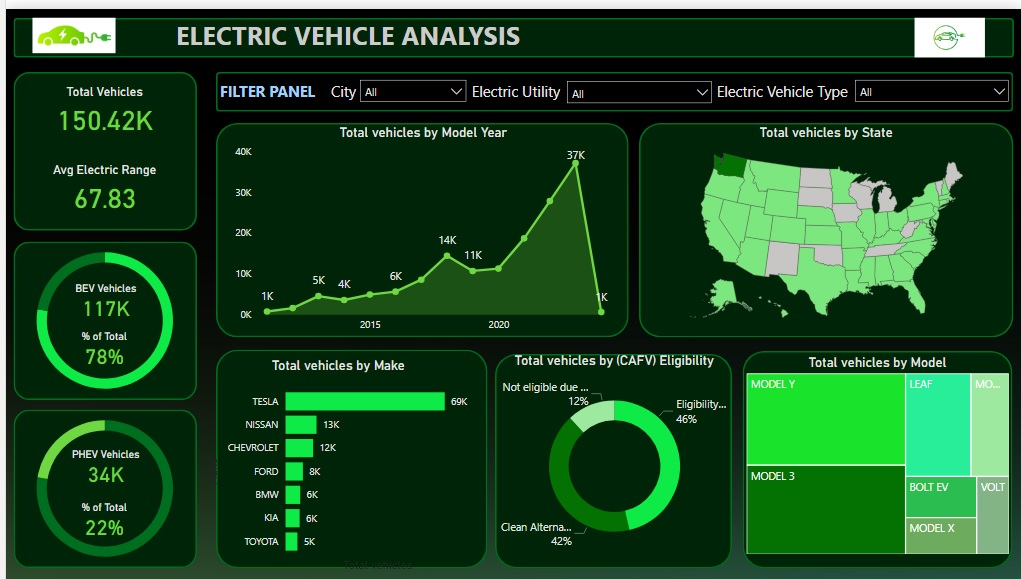

What the dashboard file says about the page in this screenshot:
{"tool":"powerbi","page":{"name":"Page 1","canvas":[1280,720],"ordinal":0},"visuals":[{"type":"shape","box":[9.4,10.9,1260.4,50],"z":0},{"type":"textbox","box":[164.4,5.7,532.9,60.5],"z":1000},{"type":"shape","box":[9.4,79.7,231.1,199.9],"z":2000},{"type":"card","title":"Total Vehicles","fields":{"Values":["Electric_Vehicle_Population_Data.Total vehicles"]},"box":[23.4,95.3,203,68.7],"z":3000},{"type":"card","title":"Avg Electric Range","fields":{"Values":["Avg(Electric_Vehicle_Population_Data.Electric Range)"]},"box":[23.4,193.7,203,68.7],"z":4000},{"type":"shape","box":[9.4,292.1,231.1,199.9],"z":5000},{"type":"shape","box":[9.4,504.5,231.1,199.9],"z":6000},{"type":"donutChart","fields":{"Category":["Electric_Vehicle_Population_Data.Electric Vehicle Type"],"Y":["Electric_Vehicle_Population_Data.Total vehicles"]},"box":[0,279.6,248.3,224.9],"z":7000},{"type":"card","title":"BEV Vehicles","fields":{"Values":["Electric_Vehicle_Population_Data.BEV Vehicles"]},"box":[62.5,343.6,126.5,48.4],"z":8000},{"type":"card","title":"% of Total","fields":{"Values":["Electric_Vehicle_Population_Data.% of BEV"]},"box":[60.9,404.5,126.5,48.4],"z":9000},{"type":"donutChart","fields":{"Category":["Electric_Vehicle_Population_Data.Electric Vehicle Type"],"Y":["Electric_Vehicle_Population_Data.Total vehicles"]},"box":[0,492,248.3,224.9],"z":10000},{"type":"card","title":"PHEV Vehicles","fields":{"Values":["Electric_Vehicle_Population_Data.HB Vehicles"]},"box":[62.5,552.9,126.5,48.4],"z":11000},{"type":"card","title":"% of Total","fields":{"Values":["Electric_Vehicle_Population_Data.% of PHEV"]},"box":[60.9,620,126.5,48.4],"z":12000},{"type":"shape","box":[265.5,79.7,1004.3,50],"z":13000},{"type":"shape","box":[265.5,143.7,520,270],"z":14000},{"type":"areaChart","fields":{"Category":["Electric_Vehicle_Population_Data.Model Year"],"Y":["Electric_Vehicle_Population_Data.Total vehicles"]},"box":[282.7,145.2,484.2,270.2],"z":15000},{"type":"shape","box":[798.1,143.7,471.7,270.2],"z":16000},{"type":"shapeMap","fields":{"Category":["Electric_Vehicle_Population_Data.State"],"Value":["Electric_Vehicle_Population_Data.Total vehicles"]},"box":[798.1,145.2,471.7,259.3],"z":17000},{"type":"shape","box":[264.6,429,342,275.9],"z":18000},{"type":"barChart","fields":{"Category":["Electric_Vehicle_Population_Data.Make"],"Y":["Electric_Vehicle_Population_Data.Total vehicles"]},"box":[247.6,438.4,342,274],"z":19000},{"type":"shape","box":[616.1,434.6,298.6,270.2],"z":20000},{"type":"donutChart","title":"Total vehicles by (CAFV) Eligibility","fields":{"Category":["Electric_Vehicle_Population_Data.Clean Alternative Fuel Vehicle (CAFV) Eligibility"],"Y":["Electric_Vehicle_Population_Data.Total vehicles"]},"box":[618,432.8,296.7,266.5],"z":21000},{"type":"shape","box":[927.9,430.9,340.2,274],"z":22000},{"type":"treemap","fields":{"Group":["Electric_Vehicle_Population_Data.Model"],"Values":["Electric_Vehicle_Population_Data.Total vehicles"]},"box":[927.9,434.6,340.2,257],"z":23000},{"type":"textbox","box":[264.6,85,155,51],"z":24000},{"type":"textbox","box":[396.9,85,56.7,51],"z":26000},{"type":"textbox","box":[566.9,85,151.2,51],"z":29000},{"type":"textbox","box":[882.5,85,190.9,51],"z":30000},{"type":"slicer","fields":{"Values":["Electric_Vehicle_Population_Data.City"]},"box":[436.5,79.4,153.1,51],"z":30001},{"type":"slicer","fields":{"Values":["Electric_Vehicle_Population_Data.Electric Utility"]},"box":[697.3,81.3,202.2,51],"z":30002},{"type":"slicer","fields":{"Values":["Electric_Vehicle_Population_Data.Electric Vehicle Type"]},"box":[1060.2,79.4,213.5,51],"z":30003},{"type":"image","box":[0,5.7,172,54.8],"z":30004},{"type":"image","box":[1098,5.7,181.4,60.5],"z":30005}]}

Visuals, with their boxes in screenshot pixels (x1, y1, x2, y2), scaled from the page's 1280x720 canvas onto the 1021x579 screenshot:
shape: (7, 9, 1013, 49)
textbox: (131, 5, 556, 53)
shape: (7, 64, 192, 225)
"Total Vehicles" card: (19, 77, 181, 132)
"Avg Electric Range" card: (19, 156, 181, 211)
shape: (7, 235, 192, 396)
shape: (7, 406, 192, 566)
donutChart - Electric_Vehicle_Population_Data.Electric Vehicle Type x Electric_Vehicle_Population_Data.Total vehicles: (0, 225, 198, 406)
"BEV Vehicles" card: (50, 276, 151, 315)
"% of Total" card: (49, 325, 149, 364)
donutChart - Electric_Vehicle_Population_Data.Electric Vehicle Type x Electric_Vehicle_Population_Data.Total vehicles: (0, 396, 198, 577)
"PHEV Vehicles" card: (50, 445, 151, 484)
"% of Total" card: (49, 499, 149, 538)
shape: (212, 64, 1013, 104)
shape: (212, 116, 627, 333)
areaChart - Electric_Vehicle_Population_Data.Model Year x Electric_Vehicle_Population_Data.Total vehicles: (225, 117, 612, 334)
shape: (637, 116, 1013, 333)
shapeMap - Electric_Vehicle_Population_Data.State x Electric_Vehicle_Population_Data.Total vehicles: (637, 117, 1013, 325)
shape: (211, 345, 484, 567)
barChart - Electric_Vehicle_Population_Data.Make x Electric_Vehicle_Population_Data.Total vehicles: (197, 353, 470, 573)
shape: (491, 349, 730, 567)
"Total vehicles by (CAFV) Eligibility" donutChart: (493, 348, 730, 562)
shape: (740, 347, 1012, 567)
treemap - Electric_Vehicle_Population_Data.Model x Electric_Vehicle_Population_Data.Total vehicles: (740, 349, 1012, 556)
textbox: (211, 68, 335, 109)
textbox: (317, 68, 362, 109)
textbox: (452, 68, 573, 109)
textbox: (704, 68, 856, 109)
slicer - Electric_Vehicle_Population_Data.City: (348, 64, 470, 105)
slicer - Electric_Vehicle_Population_Data.Electric Utility: (556, 65, 717, 106)
slicer - Electric_Vehicle_Population_Data.Electric Vehicle Type: (846, 64, 1016, 105)
image: (0, 5, 137, 49)
image: (876, 5, 1020, 53)
